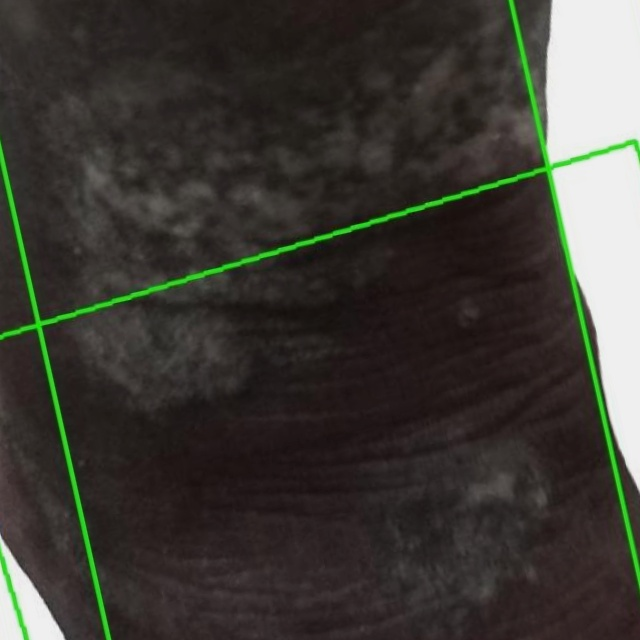Eczema: (0, 142, 639, 639)
